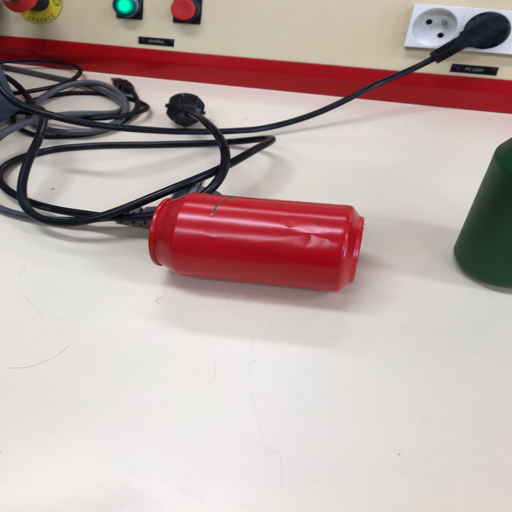Green_Can: (451, 135, 511, 290)
Red_Can: (148, 193, 367, 295)
